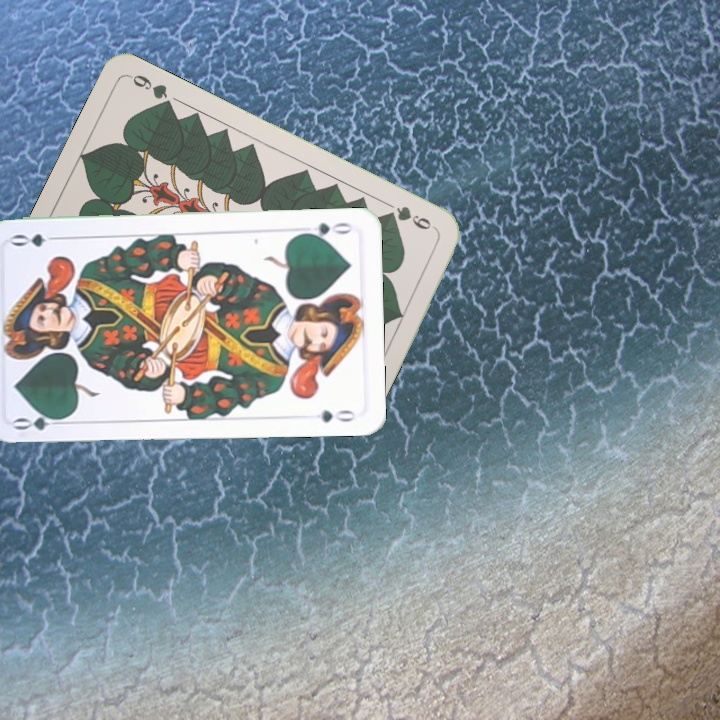G9: (382, 202, 440, 234)
GO: (11, 408, 70, 433), (296, 218, 354, 242)
